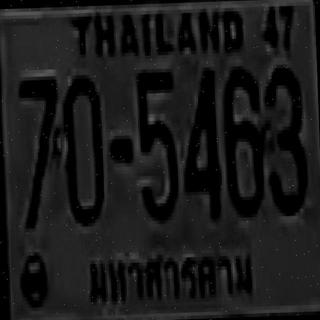N00: (60, 73, 103, 222)
N03: (264, 64, 306, 213)
N04: (180, 65, 219, 218)
N05: (135, 68, 178, 217)
N06: (221, 65, 263, 214)
N07: (16, 74, 59, 227)
P25: (84, 239, 261, 314)
